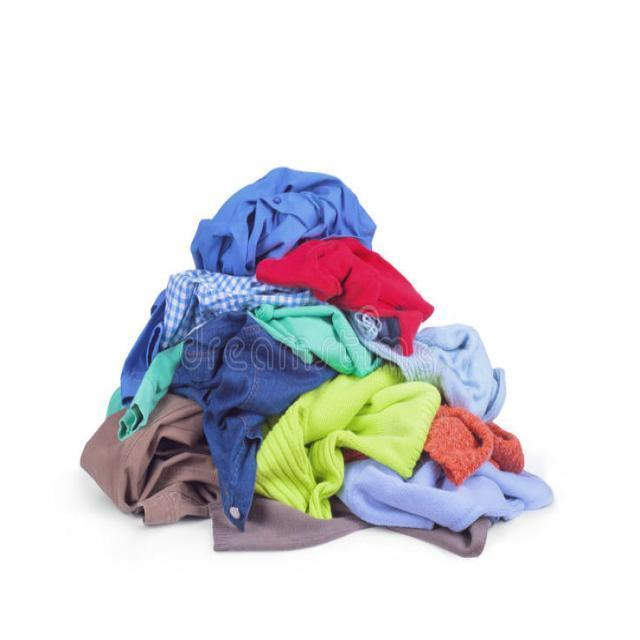clothes: (112, 194, 500, 550)
